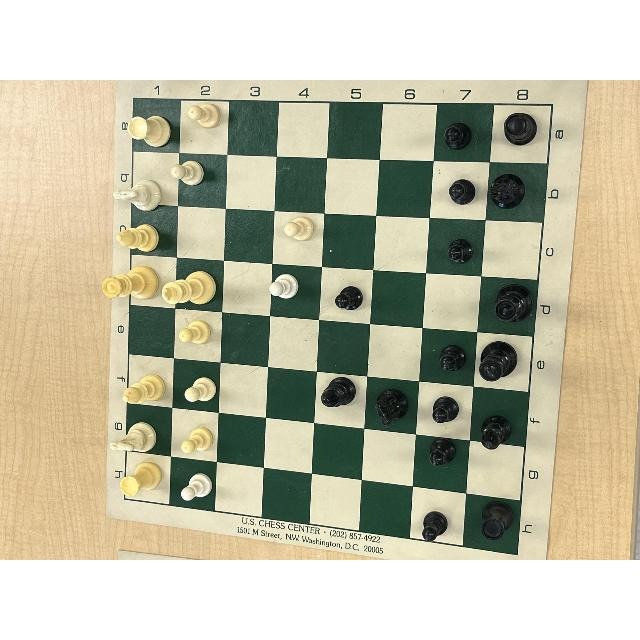black-bishop: (472, 406, 515, 453), (317, 379, 364, 415)
black-king: (479, 338, 522, 386)
black-knight: (365, 379, 416, 429), (490, 168, 526, 212)
black-pawn: (430, 334, 469, 378), (416, 503, 451, 549), (425, 391, 463, 428), (423, 436, 460, 472), (332, 281, 366, 317), (442, 234, 474, 270), (442, 117, 474, 152), (440, 177, 478, 205)
black-queen: (491, 284, 535, 326)
black-rook: (473, 498, 515, 544), (497, 107, 543, 149)
white-bishop: (108, 219, 166, 258), (116, 374, 167, 406)
white-king: (164, 275, 219, 307)
white-knight: (97, 421, 163, 453), (113, 180, 165, 216)
white-pawn: (176, 361, 220, 411), (174, 463, 215, 508), (171, 157, 209, 200), (178, 419, 219, 458), (177, 316, 215, 355), (269, 267, 303, 305), (188, 102, 222, 138), (280, 217, 314, 246)
white-queen: (98, 261, 161, 307)
white-rook: (112, 456, 166, 504), (128, 113, 172, 149)
